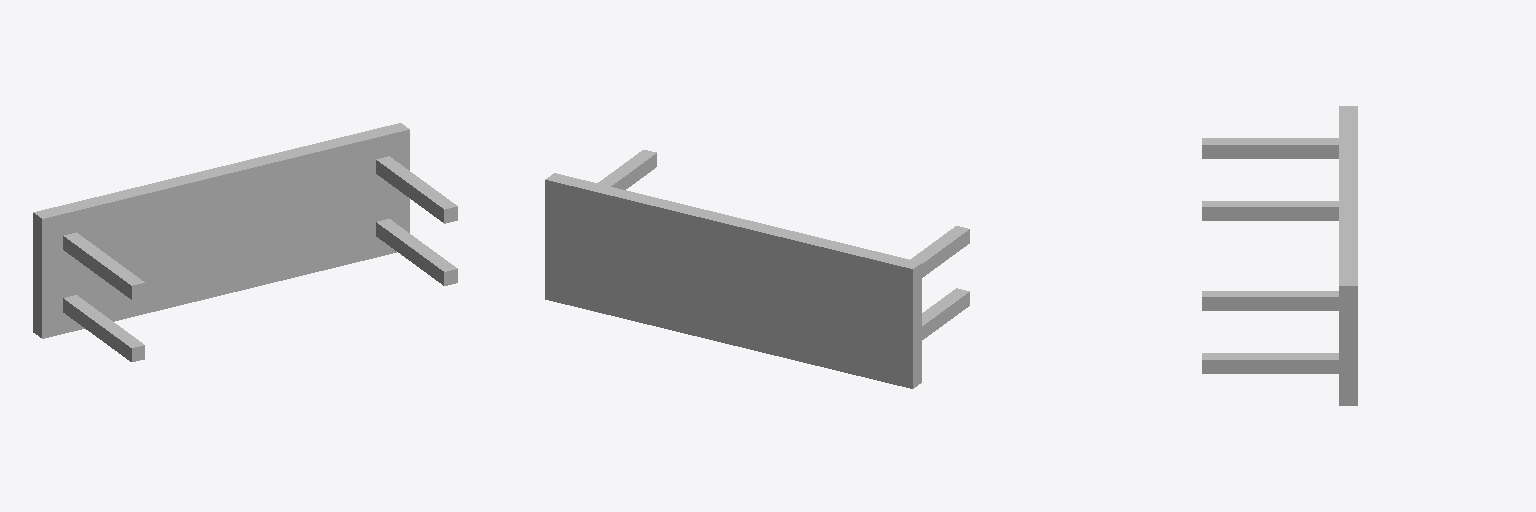
The model's file is random_table69.obj.
The picture shows the model from 3 angles: view 1: azimuth 30°, elevation 25°; view 2: azimuth 150°, elevation 25°; view 3: azimuth 270°, elevation 25°; orthographic projection.
Parts seen in each view (by area): view 1: Table_Cube.1410, TableLeg2_Cube.1413, TableLeg0_Cube.1411, TableLeg1_Cube.1412, TableLeg3_Cube.1414; view 2: Table_Cube.1410, TableLeg1_Cube.1412, TableLeg3_Cube.1414, TableLeg0_Cube.1411; view 3: Table_Cube.1410, TableLeg1_Cube.1412, TableLeg2_Cube.1413, TableLeg0_Cube.1411, TableLeg3_Cube.1414.
Part boxes in pixels (x1,y1,x2,y2): Table_Cube.1410: (33, 123, 409, 338); TableLeg2_Cube.1413: (376, 219, 457, 285); TableLeg0_Cube.1411: (376, 156, 457, 223); TableLeg1_Cube.1412: (63, 232, 144, 299); TableLeg3_Cube.1414: (63, 295, 144, 361); Table_Cube.1410: (545, 173, 921, 388); TableLeg1_Cube.1412: (910, 226, 969, 277); TableLeg3_Cube.1414: (922, 288, 969, 339); TableLeg0_Cube.1411: (598, 150, 656, 189); Table_Cube.1410: (1339, 106, 1357, 405); TableLeg1_Cube.1412: (1202, 138, 1338, 158); TableLeg2_Cube.1413: (1202, 353, 1338, 373); TableLeg0_Cube.1411: (1202, 291, 1338, 310); TableLeg3_Cube.1414: (1202, 201, 1338, 220).
Bounding box in the file's own units: 13.53 × 4.22 × 4.96.